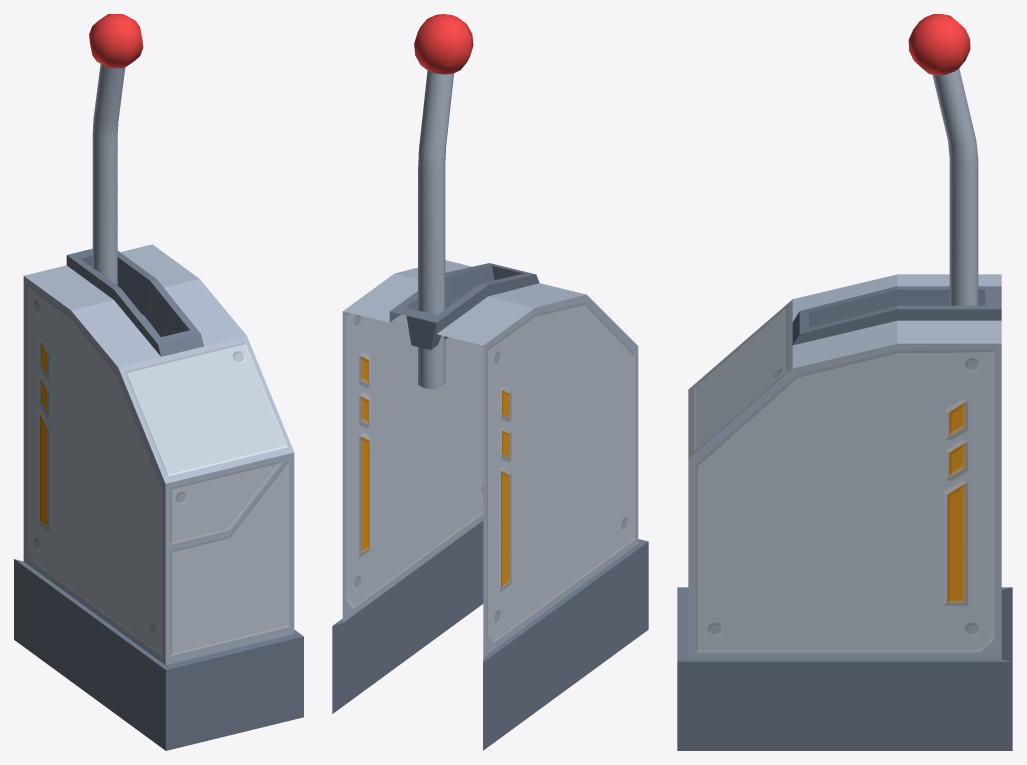
Rendered from Envi2.dae.
The picture shows the model from 3 angles, left to right: view 1: azimuth 30°, elevation 25°; view 2: azimuth 150°, elevation 25°; view 3: azimuth 270°, elevation 25°; orthographic projection. The views are drawn at different scales.
Visible parts, largest first — view 1: Sphere.001; view 2: Sphere.001; view 3: Sphere.001.
Boxes of the visible parts, x1=… form: Sphere.001: x1=14, y1=14, x2=303, y2=750; Sphere.001: x1=332, y1=14, x2=648, y2=750; Sphere.001: x1=677, y1=14, x2=1012, y2=750.
Size of the model in its own units: 0.1743 by 0.3324 by 0.7624.
